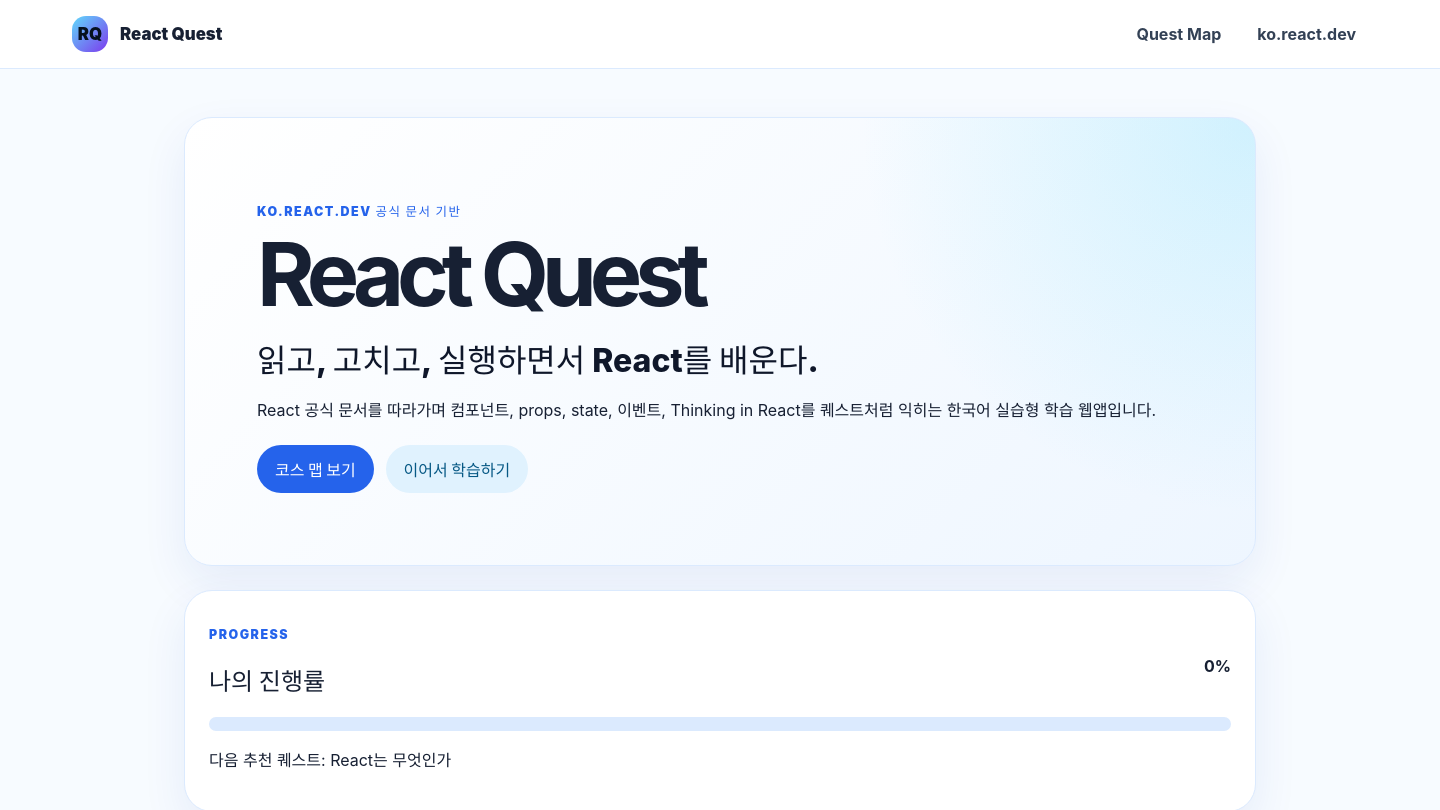
Test: React Quest MVP › shows the MVP course map and React Learn sections
Click the link "코스 맵 보기": (315, 468) 257,444 -> 374,492
(page scrolled)
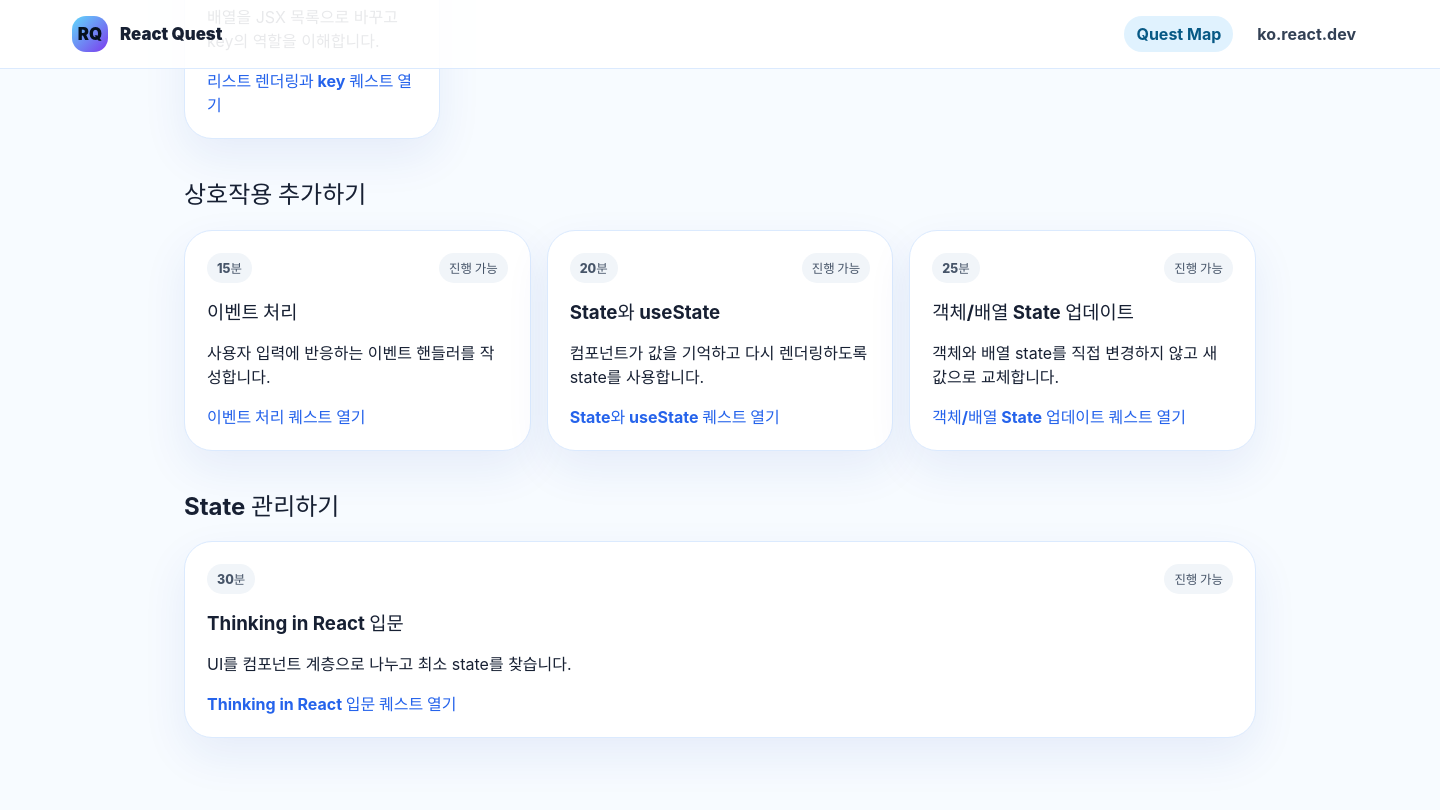
Now the heading "상호작용 추가하기" is shown, box 184,180 -> 366,209
